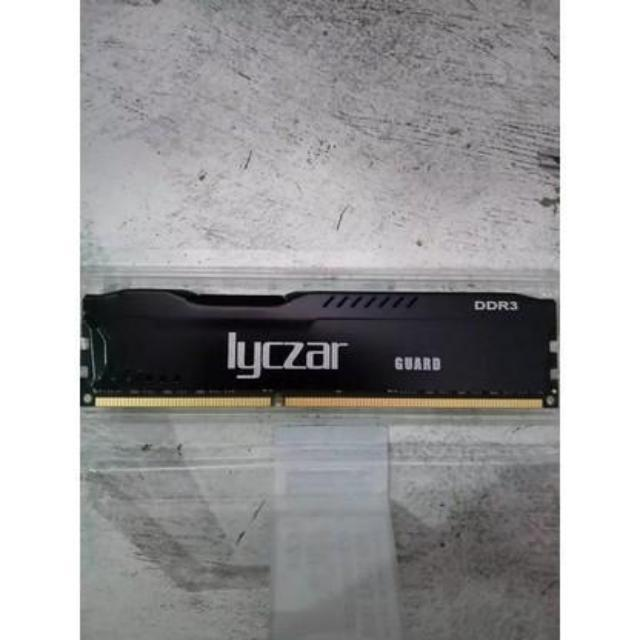RAM: (75, 286, 562, 412)
